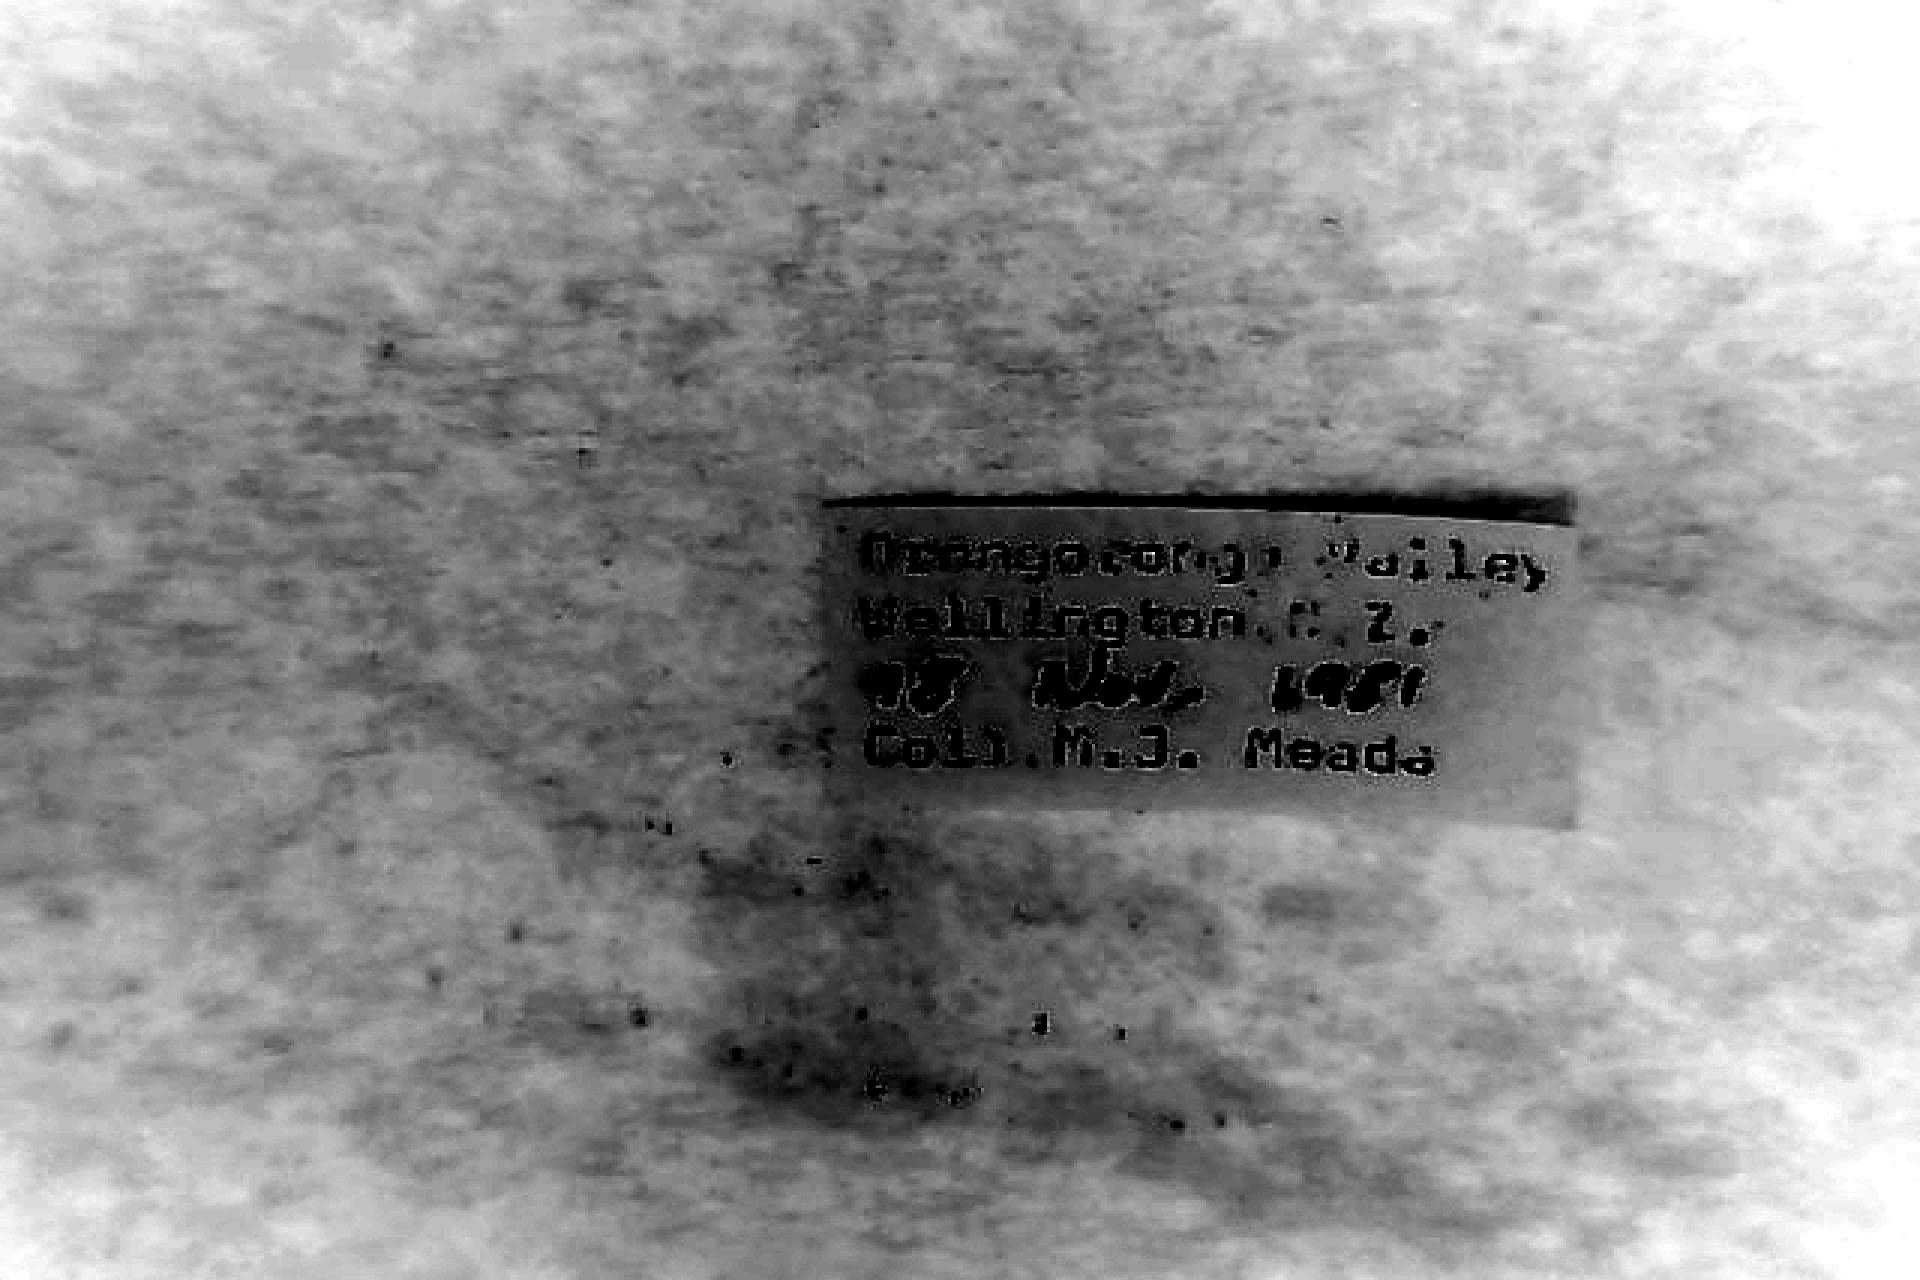mixed_label: (829, 503, 1579, 822)
